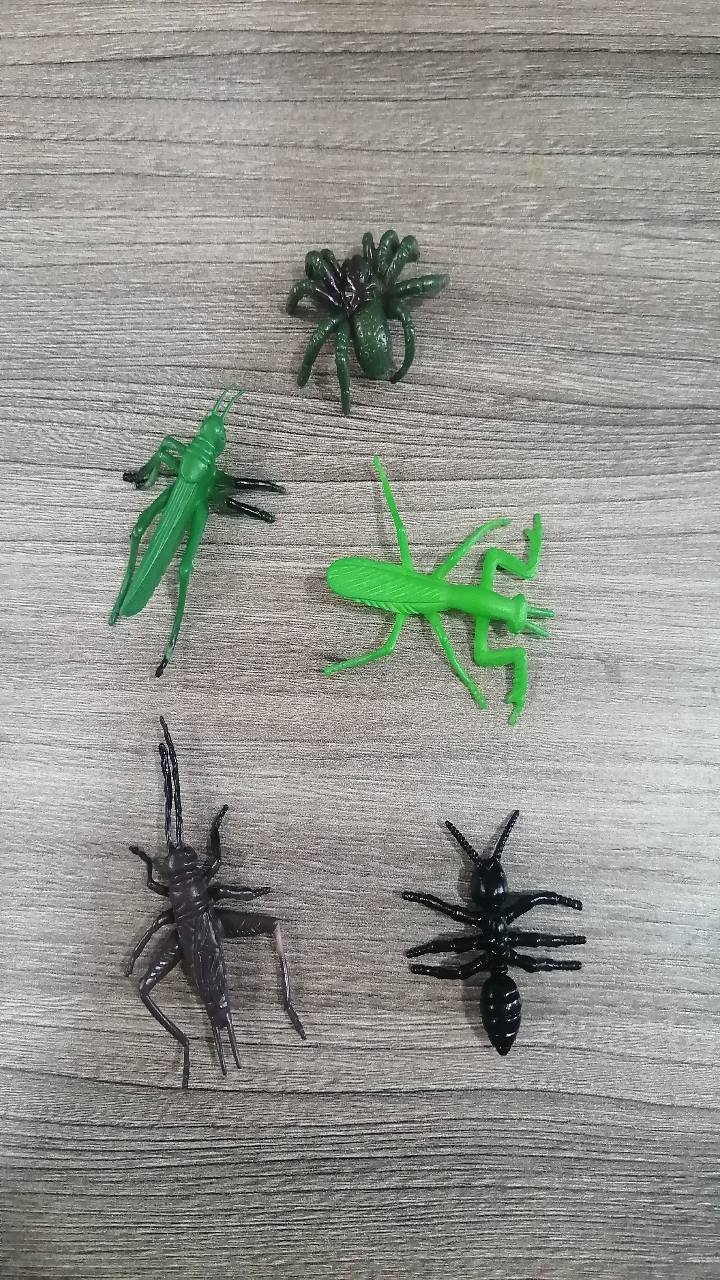intruso: (91, 709, 312, 1089), (306, 428, 561, 735), (72, 368, 294, 683), (384, 774, 608, 1075), (258, 199, 472, 414)
